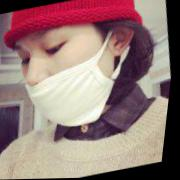WRONG: (8, 12, 126, 139)
